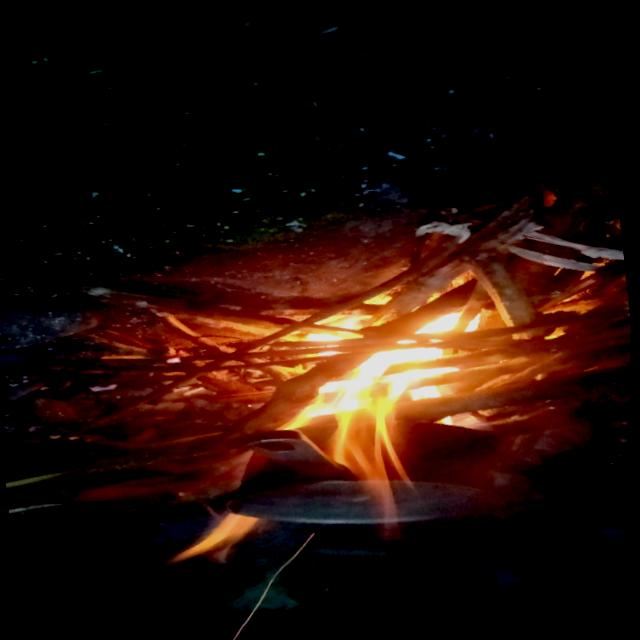Fire: (257, 270, 513, 551), (164, 504, 272, 570)
